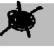not correct: (0, 0, 44, 39)
